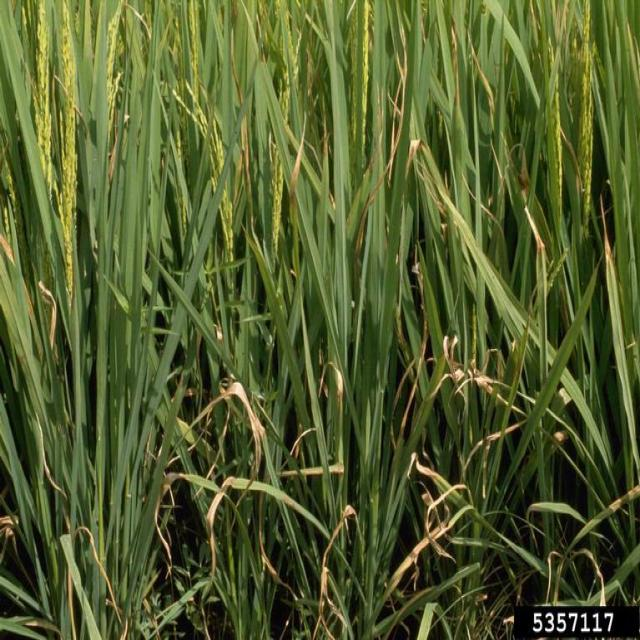Bacterial leaf blight: (136, 309, 517, 640), (187, 21, 631, 304), (522, 310, 640, 603), (13, 422, 135, 640), (0, 205, 74, 386)
